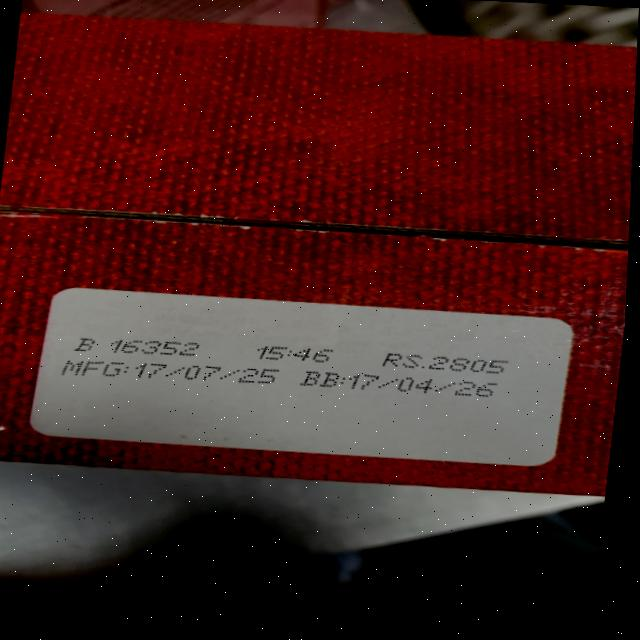BB: (300, 366, 501, 402)
Batch: (73, 334, 204, 360)
MFG: (61, 353, 283, 391)
RS: (380, 350, 510, 377)
TimeStamp: (254, 343, 337, 365)
